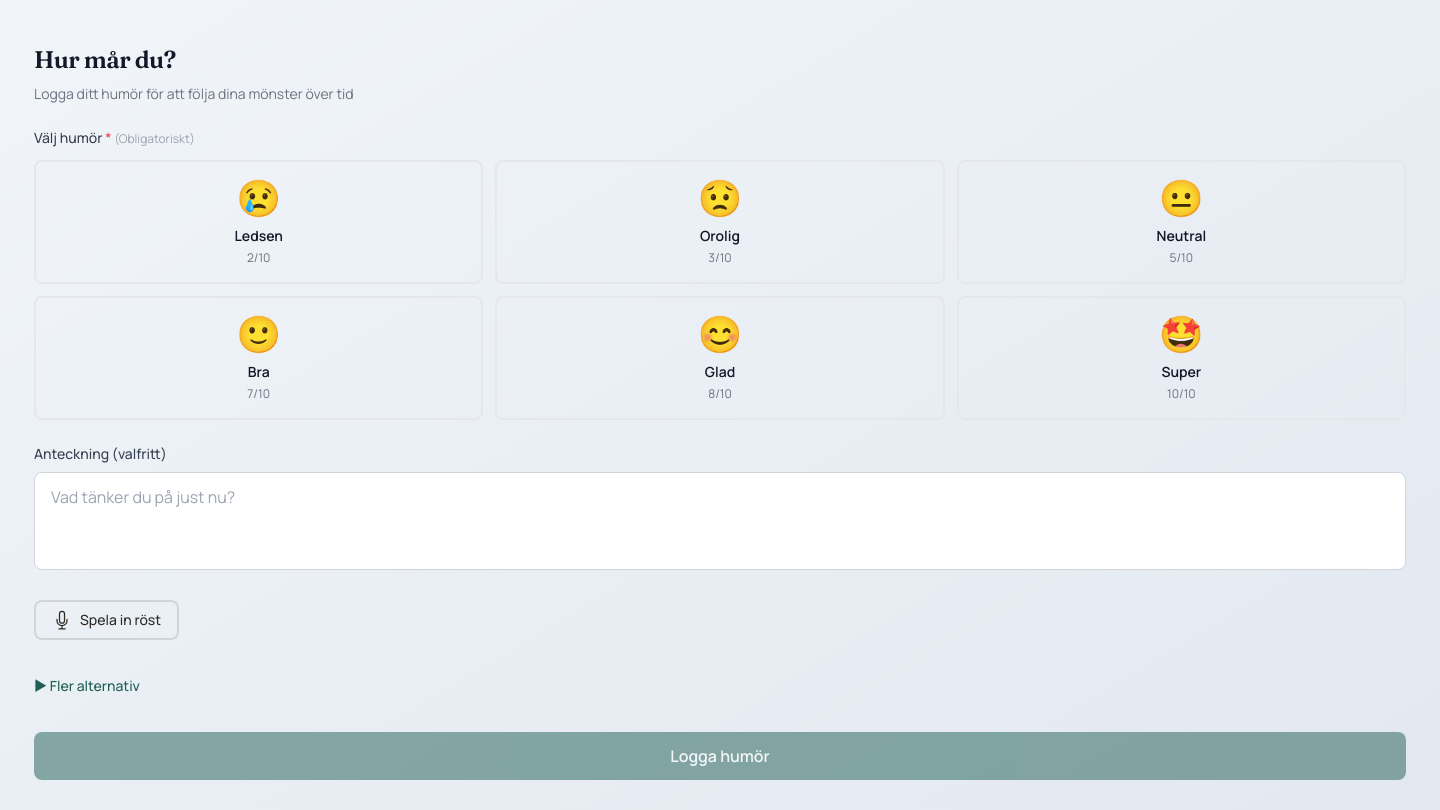
Test: SuperMoodLogger › Voice recording › stops recording and shows audio confirmation
Click the button "Spela in röst" at (106, 620), box [34, 600, 179, 640]
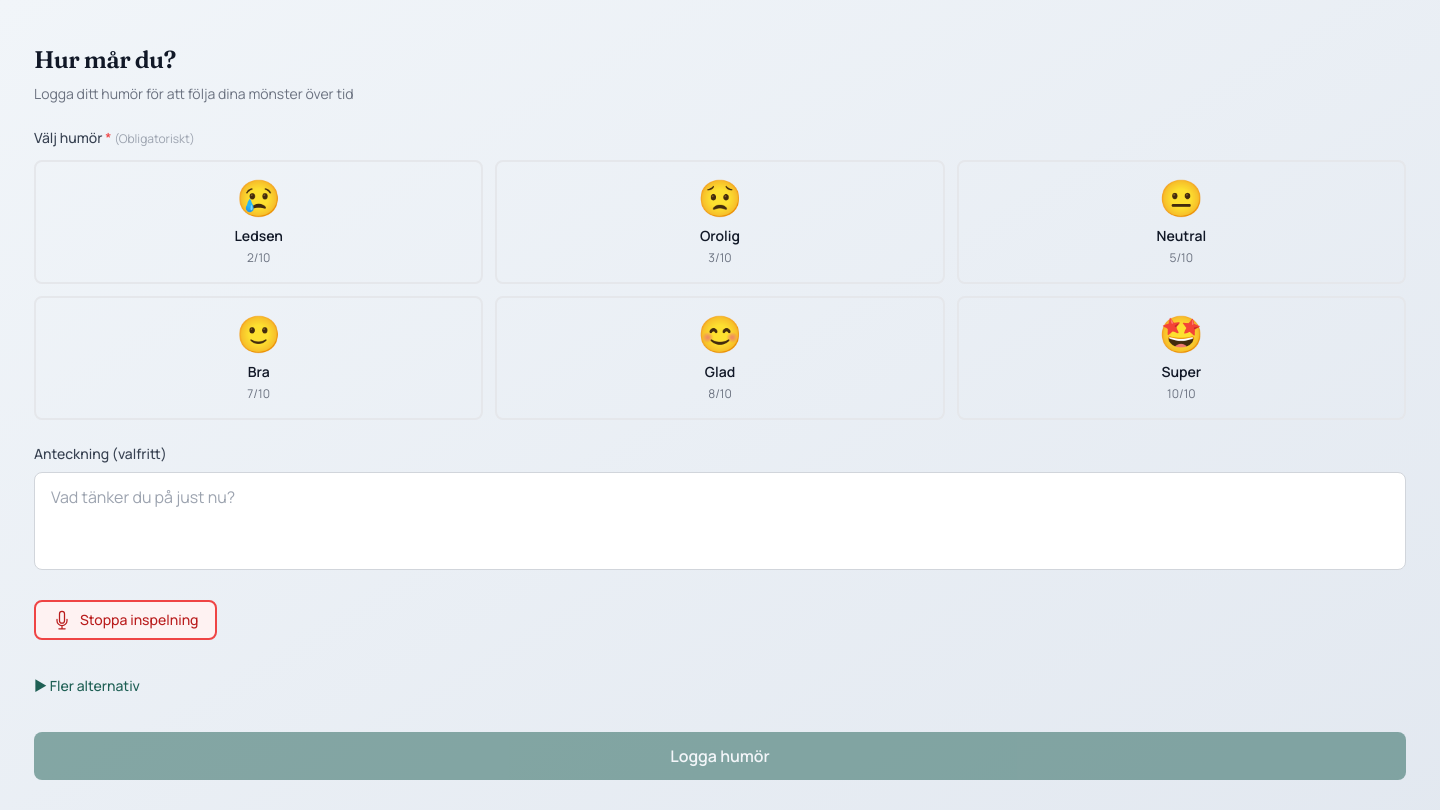
Click the button "Stoppa inspelning" at (125, 620), box [34, 600, 216, 640]
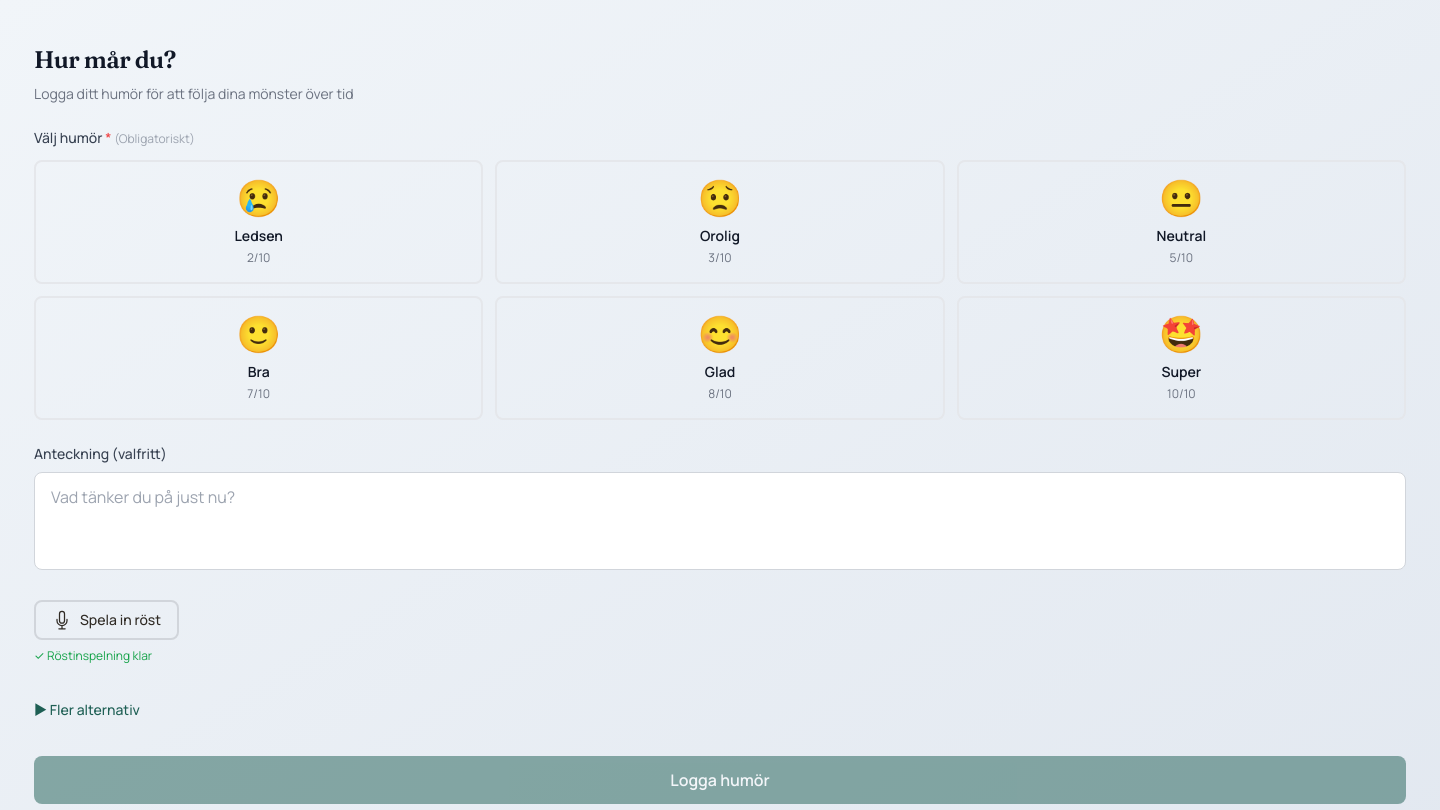
Result: the text "✓ Röstinspelning klar" is shown at [34, 647, 152, 664]
